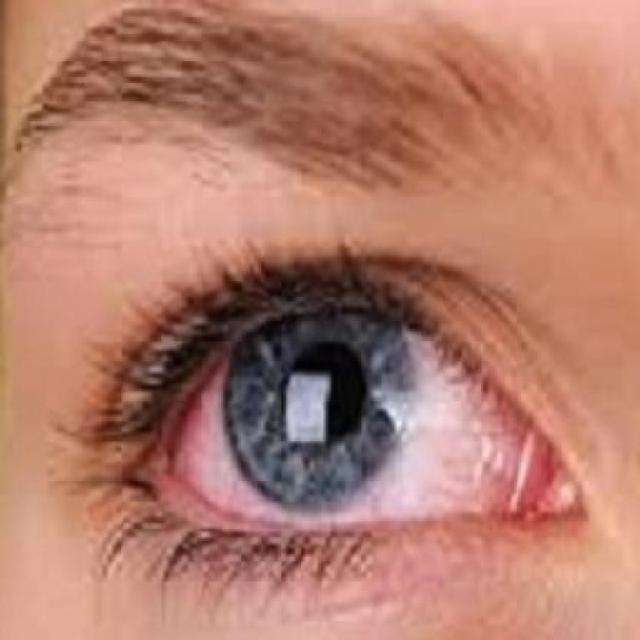awake: (108, 255, 581, 576)
